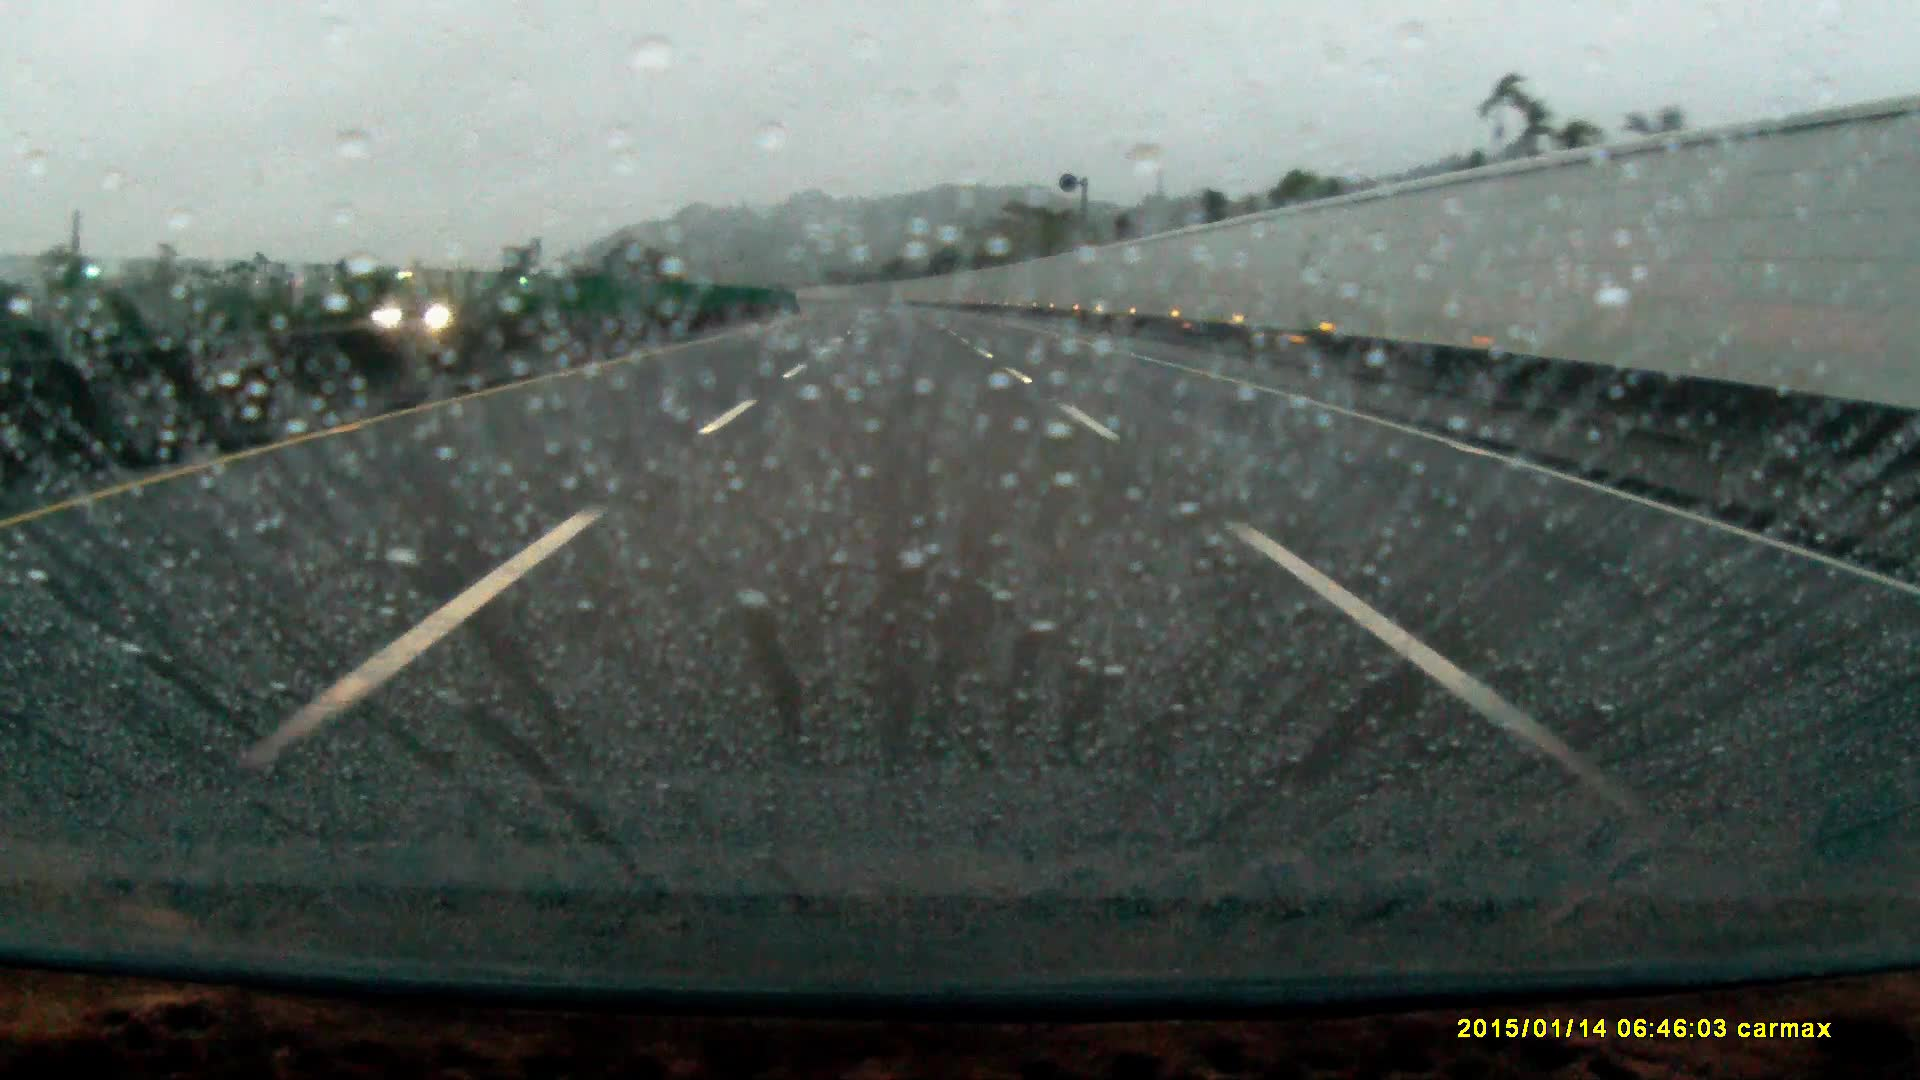vehicle: (357, 290, 455, 335)
